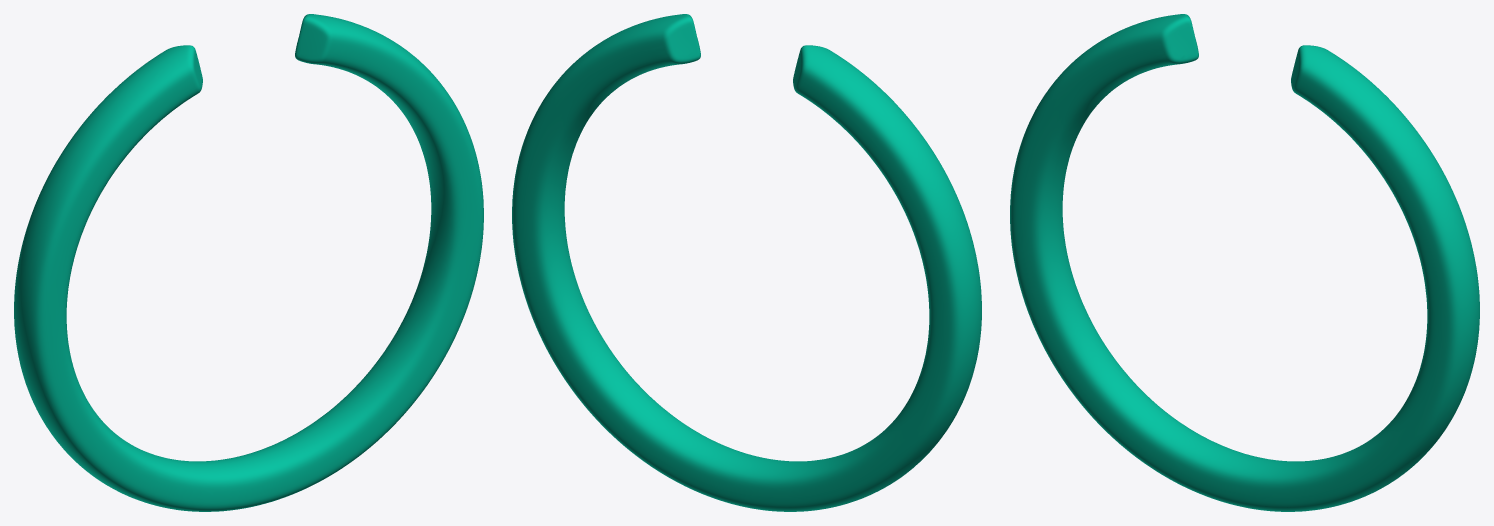
File: BE2353_RENDER.glb
3 renders of one model, left to right at view 1: azimuth 30°, elevation 25°; view 2: azimuth 150°, elevation 25°; view 3: azimuth 330°, elevation 25°, orthographic.
Parts seen in each view (by area): view 1: Metal03; view 2: Metal03; view 3: Metal03.
Part boxes in pixels (left/top/right/bottom): Metal03: left=14, top=14, right=483, bottom=511; Metal03: left=512, top=14, right=981, bottom=511; Metal03: left=1010, top=14, right=1479, bottom=511.
Bounding box in the file's own units: 20.11 × 19.75 × 2.
